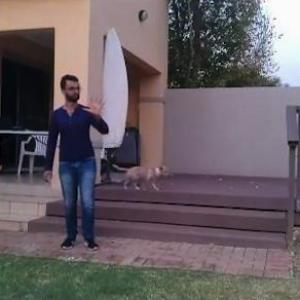follow_hand: (82, 86, 109, 122)
